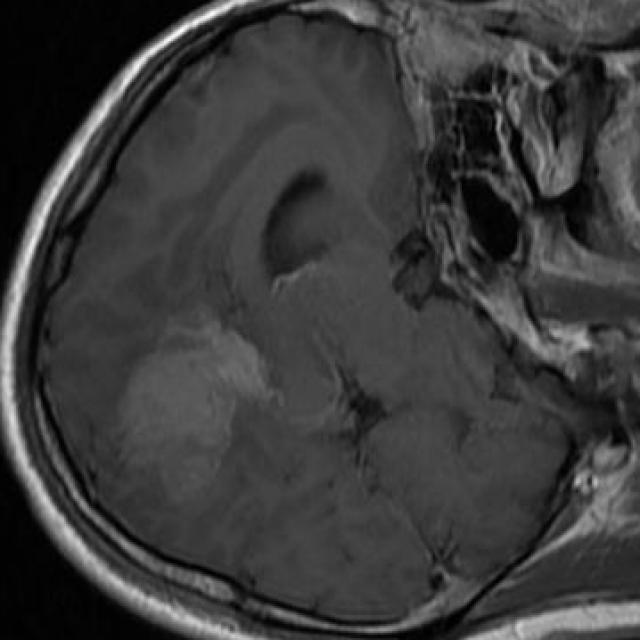meningioma: (123, 308, 273, 496)
